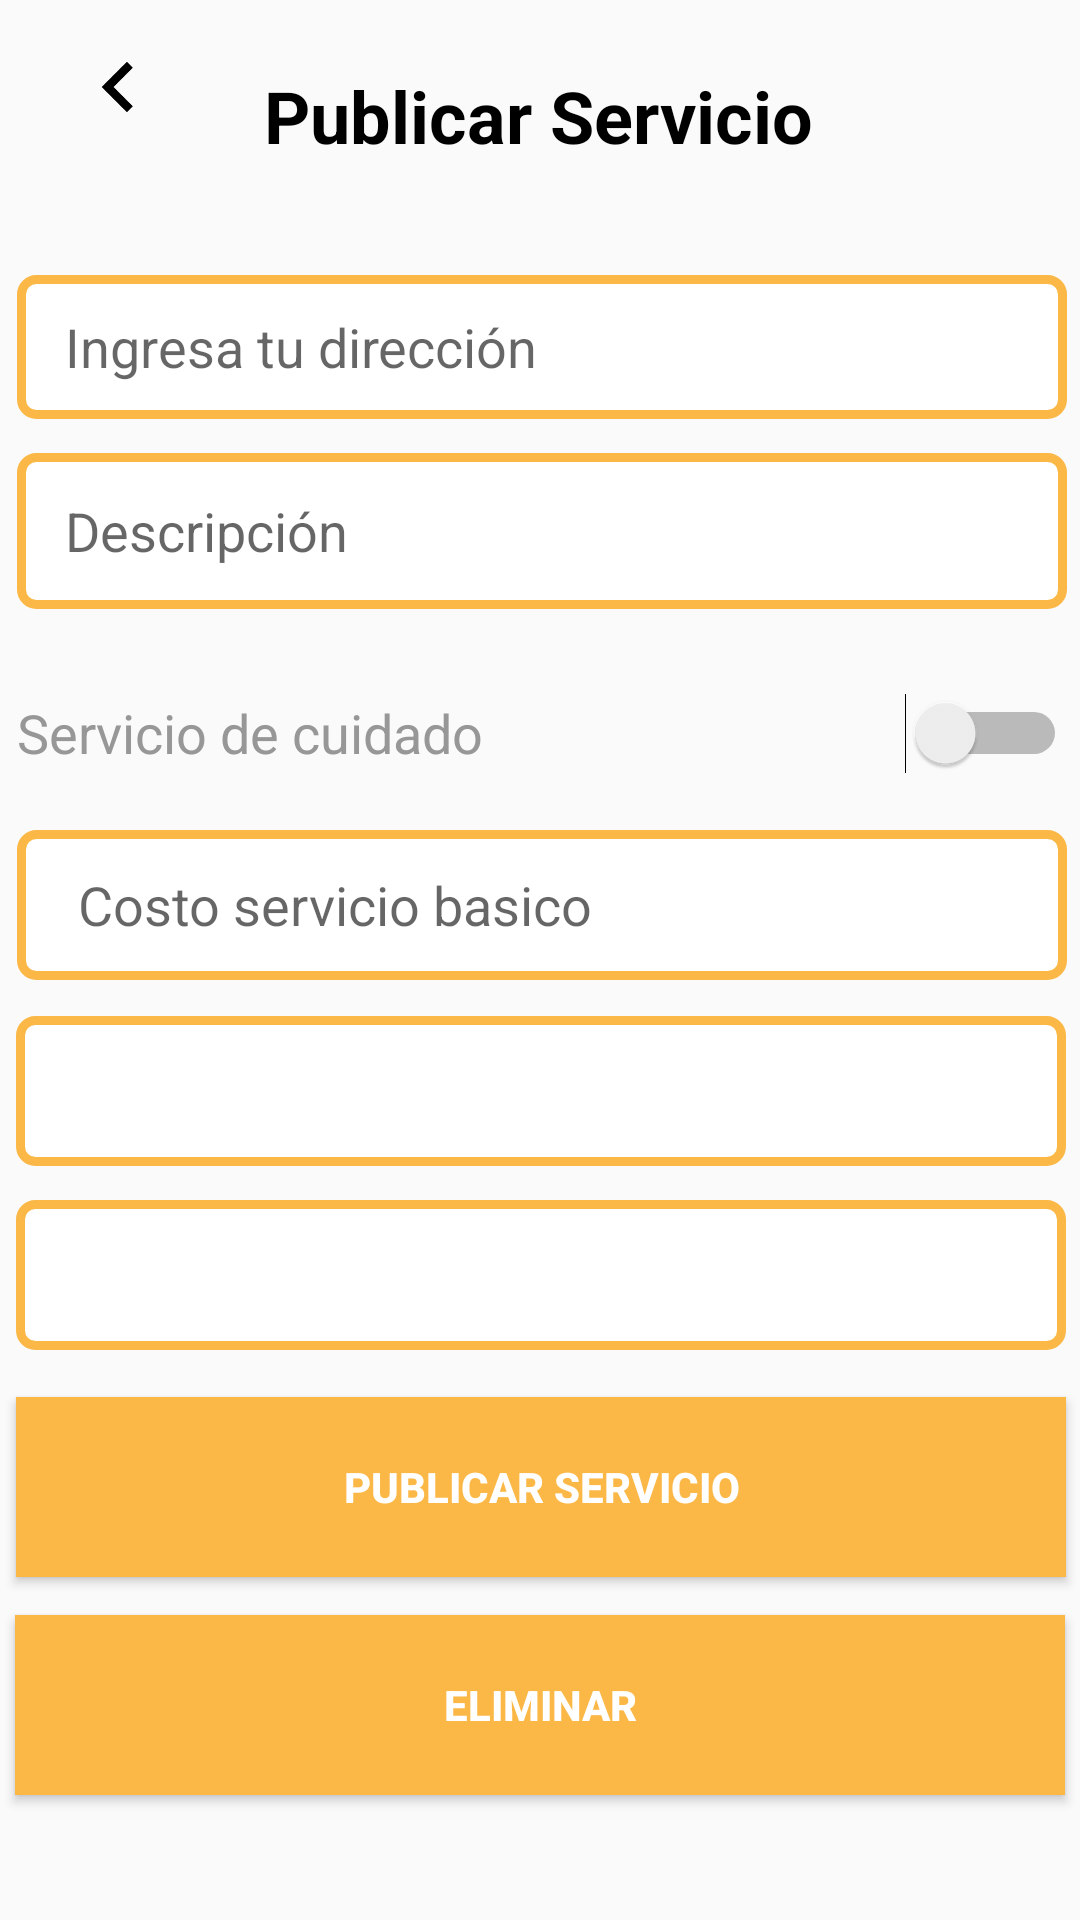

Locate icon controls on the screen. Image size 1080x1920, boxes as (x1, y1, x2, y2).
leftkey: (102, 62, 133, 112)
